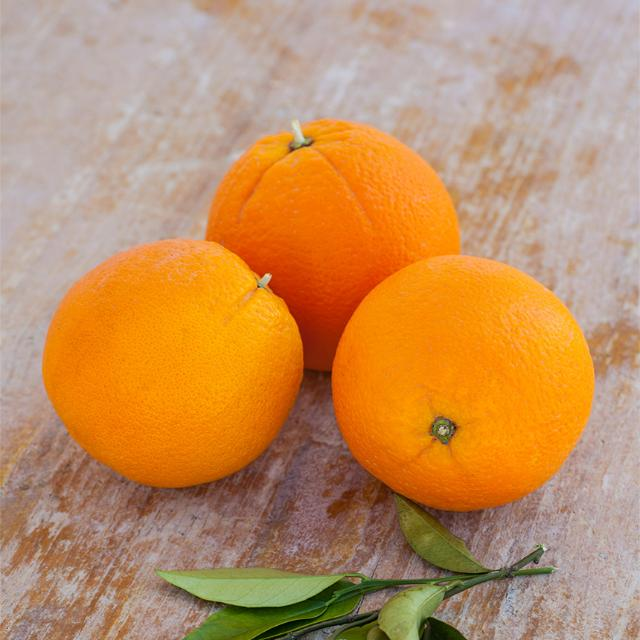Oranges: (332, 253, 596, 511), (204, 115, 460, 371), (44, 241, 304, 489)
